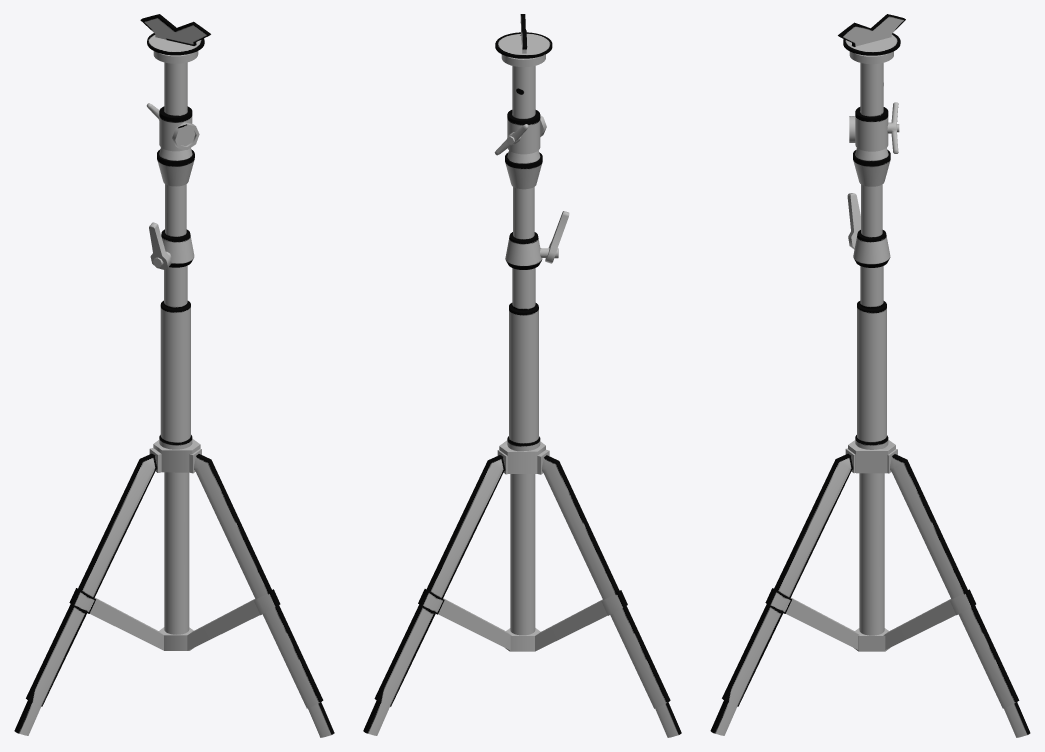
The model's file is drumsetV4_RideSymbalRest.obj.
3 views of the same model, side by side, from view 1: azimuth 30°, elevation 25°; view 2: azimuth 150°, elevation 25°; view 3: azimuth 270°, elevation 25° (orthographic).
Parts seen in each view (by area): view 1: drumsetV4_RideSymbalRest_Cylinder.027; view 2: drumsetV4_RideSymbalRest_Cylinder.027; view 3: drumsetV4_RideSymbalRest_Cylinder.027.
Boxes of the visible parts, x1,y1,x2,y2 form: drumsetV4_RideSymbalRest_Cylinder.027: (14,14,334,737); drumsetV4_RideSymbalRest_Cylinder.027: (363,14,681,737); drumsetV4_RideSymbalRest_Cylinder.027: (710,14,1030,737).
Size of the model in its own units: 1.08 by 2.88 by 1.23.
